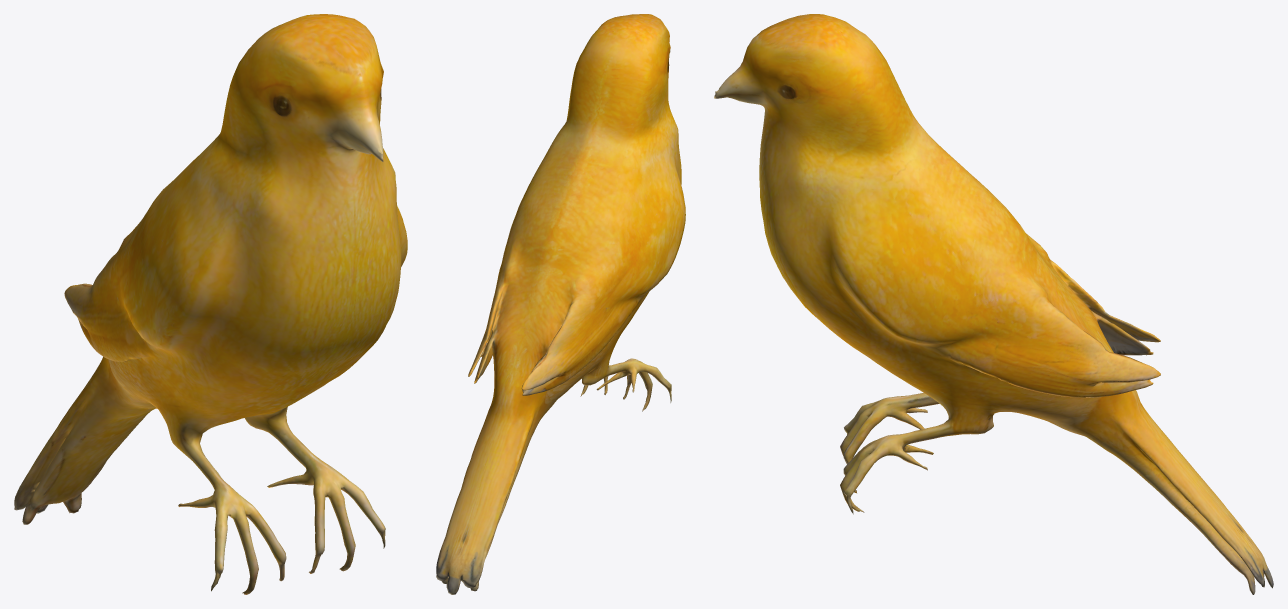
The model's file is canary.glb.
3 views of the same model, side by side, from view 1: azimuth 30°, elevation 25°; view 2: azimuth 150°, elevation 25°; view 3: azimuth 270°, elevation 25° (orthographic). The views are drawn at different scales.
Visible parts, largest first — view 1: Object_3; view 2: Object_3; view 3: Object_3.
Boxes of the visible parts, box(x1,y1,x2,y2) form: Object_3: box(14, 14, 407, 594); Object_3: box(436, 14, 685, 594); Object_3: box(714, 14, 1273, 594).
Size of the model in its own units: 0.6798 by 2.01 by 1.79.
1 material, 1 textured.
